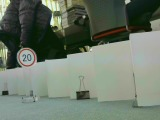speed_20: (16, 48, 37, 68)
